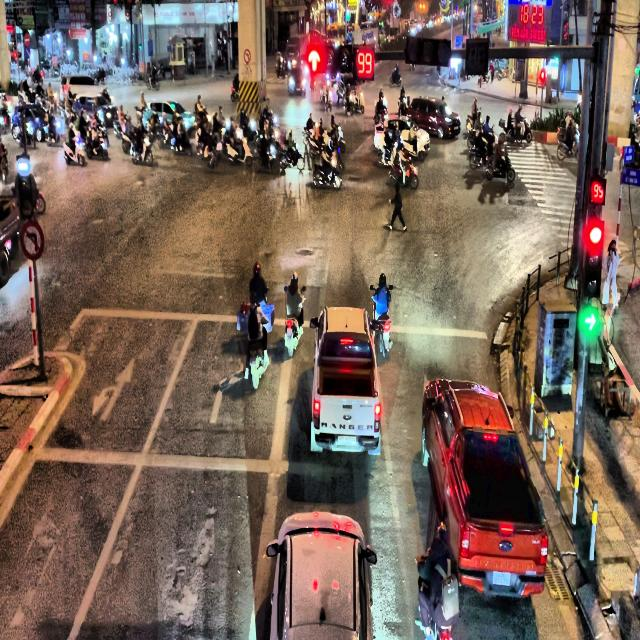lisence_plate: (489, 569, 512, 588), (334, 436, 360, 448)
